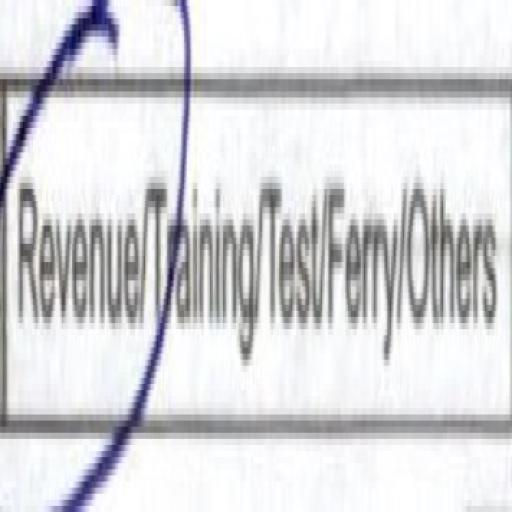check: (0, 6, 147, 512)
